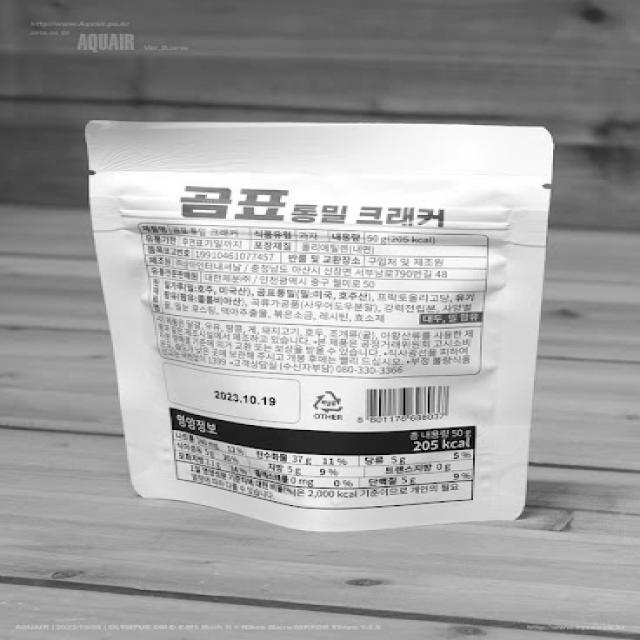Nutrition Label: (154, 403, 487, 513)
